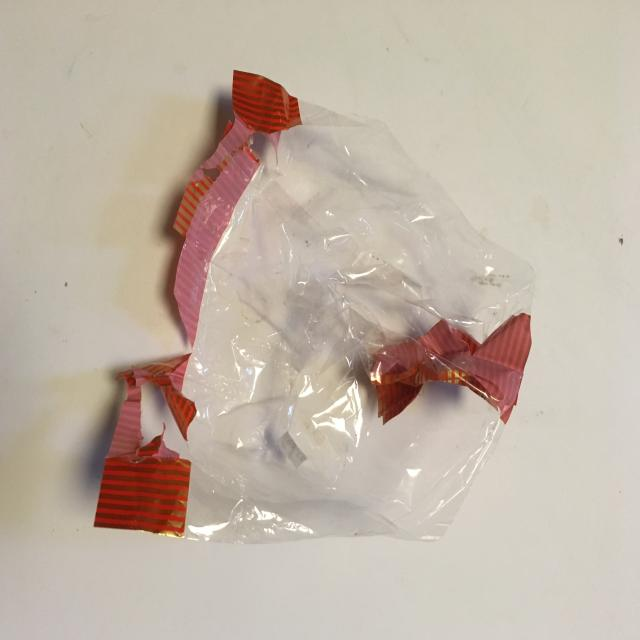plastic: (78, 56, 544, 562)
